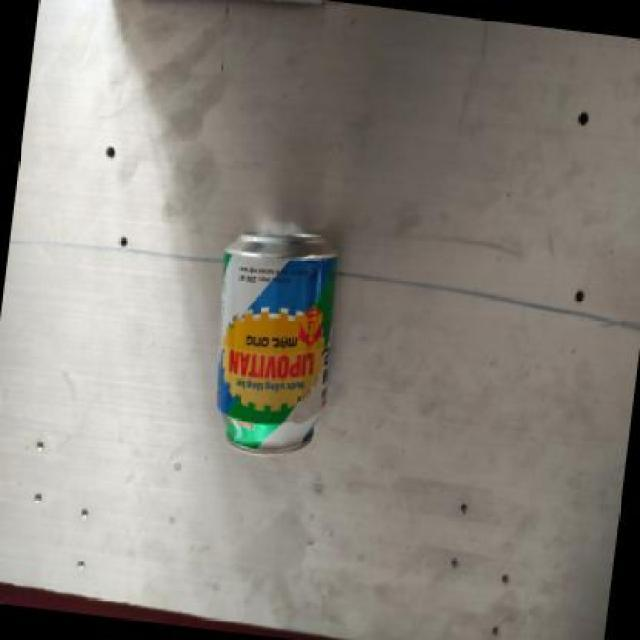can: (212, 226, 344, 459)
